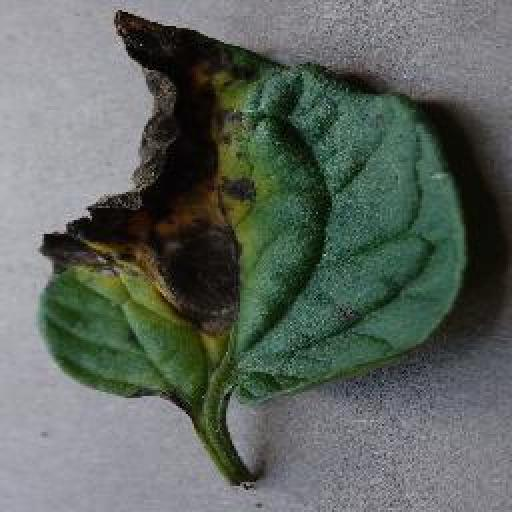Early Blight: (35, 7, 468, 408)
